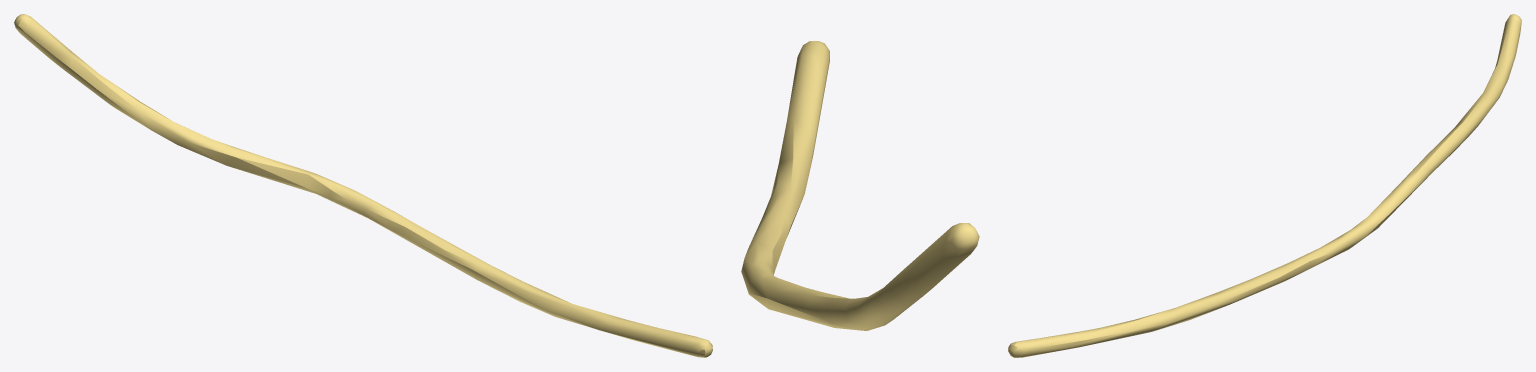
The model's file is fma82735_fj3950.glb.
3 views of the same model, side by side, from view 1: azimuth 30°, elevation 25°; view 2: azimuth 150°, elevation 25°; view 3: azimuth 270°, elevation 25° (orthographic). The views are drawn at different scales.
Visible parts, largest first — view 1: FMA82735_FJ3950; view 2: FMA82735_FJ3950; view 3: FMA82735_FJ3950.
Part boxes in pixels (box(x1,y1,x2,y2)): FMA82735_FJ3950: box(14, 14, 712, 357); FMA82735_FJ3950: box(741, 41, 979, 330); FMA82735_FJ3950: box(1008, 14, 1521, 357).
Size of the model in its own units: 0.012 by 0.00637 by 0.0158.
